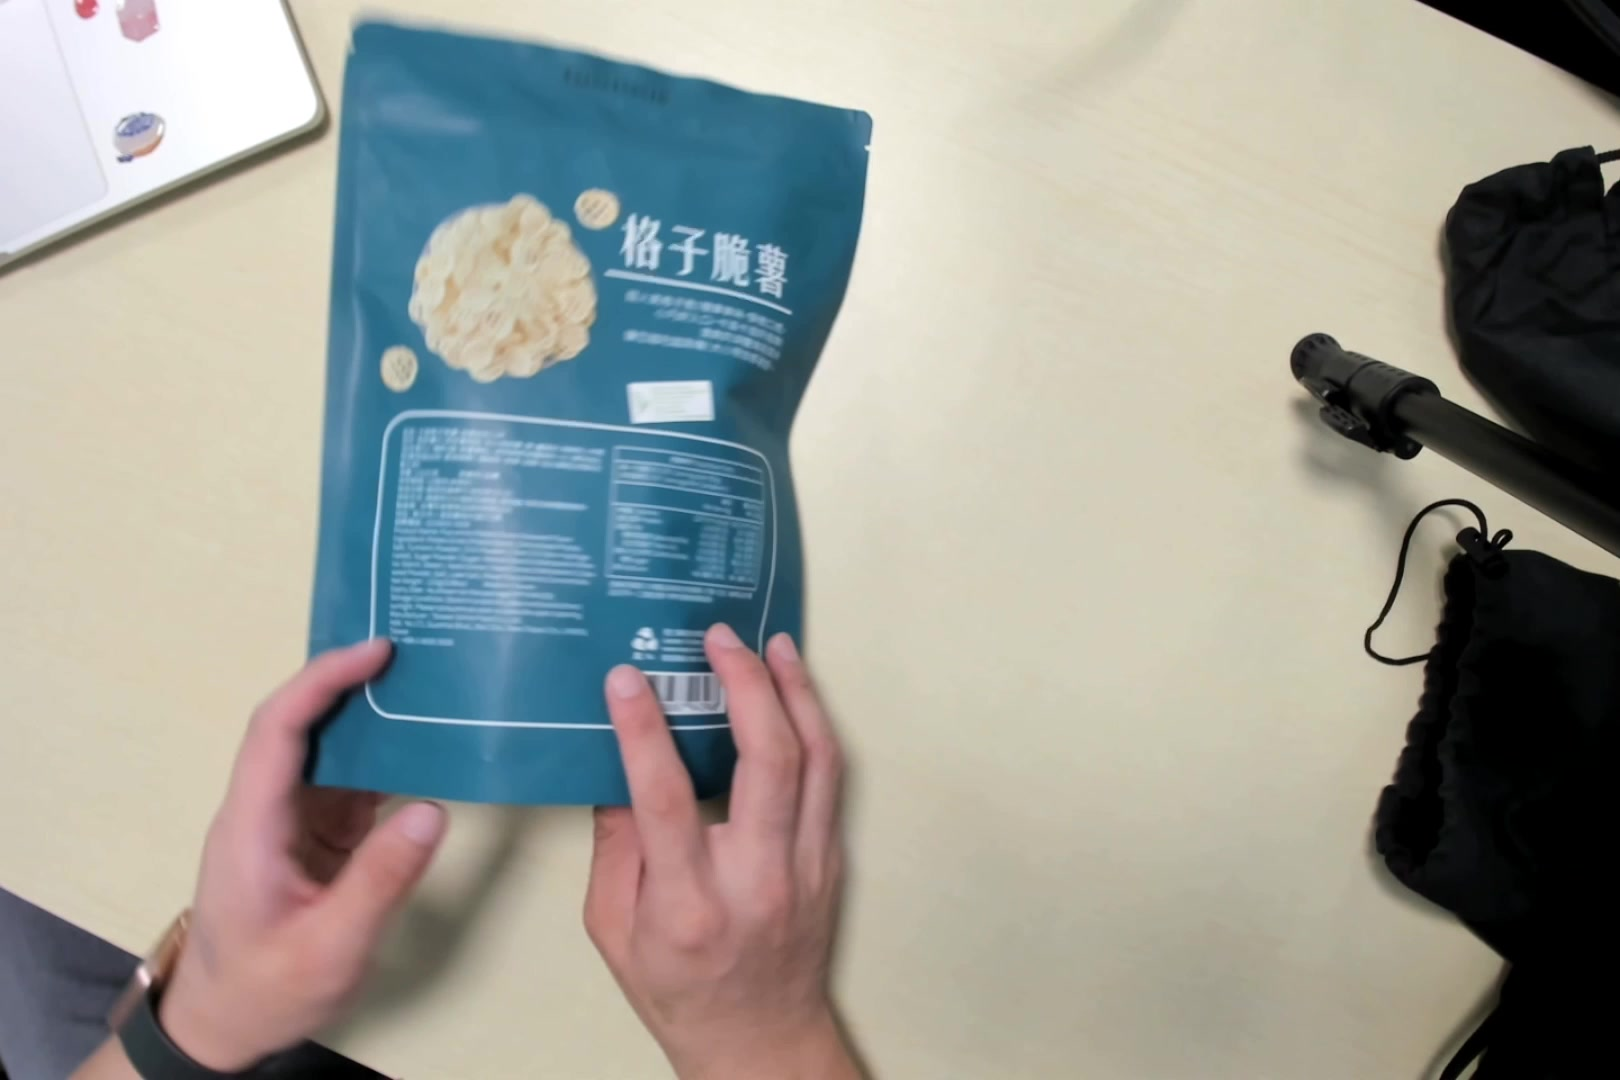PotatoChipsKeropok_100-199g_NonHalal_NonHealthy: (340, 29, 809, 800)
